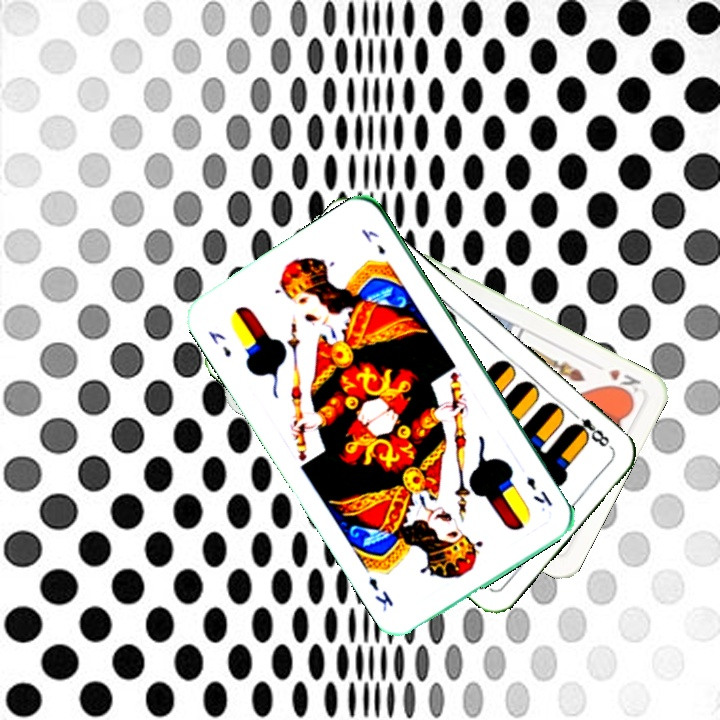E8: (566, 407, 615, 451)
EK: (522, 472, 555, 510), (204, 327, 234, 360)
HK: (603, 364, 644, 400)
